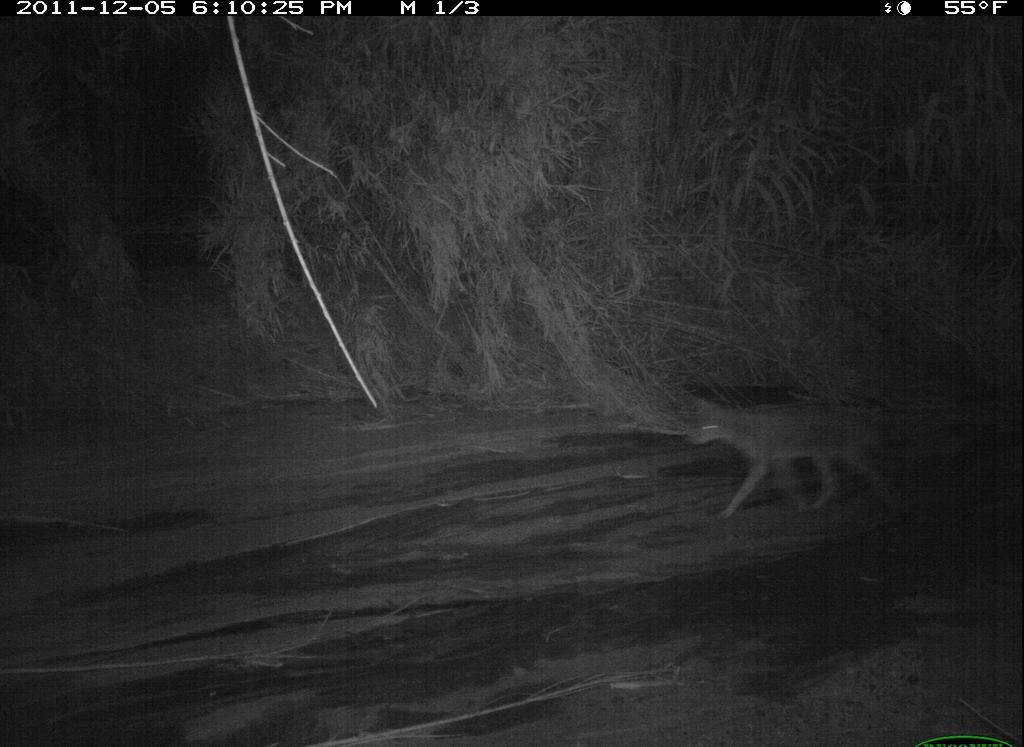coyote: (685, 385, 911, 523)
